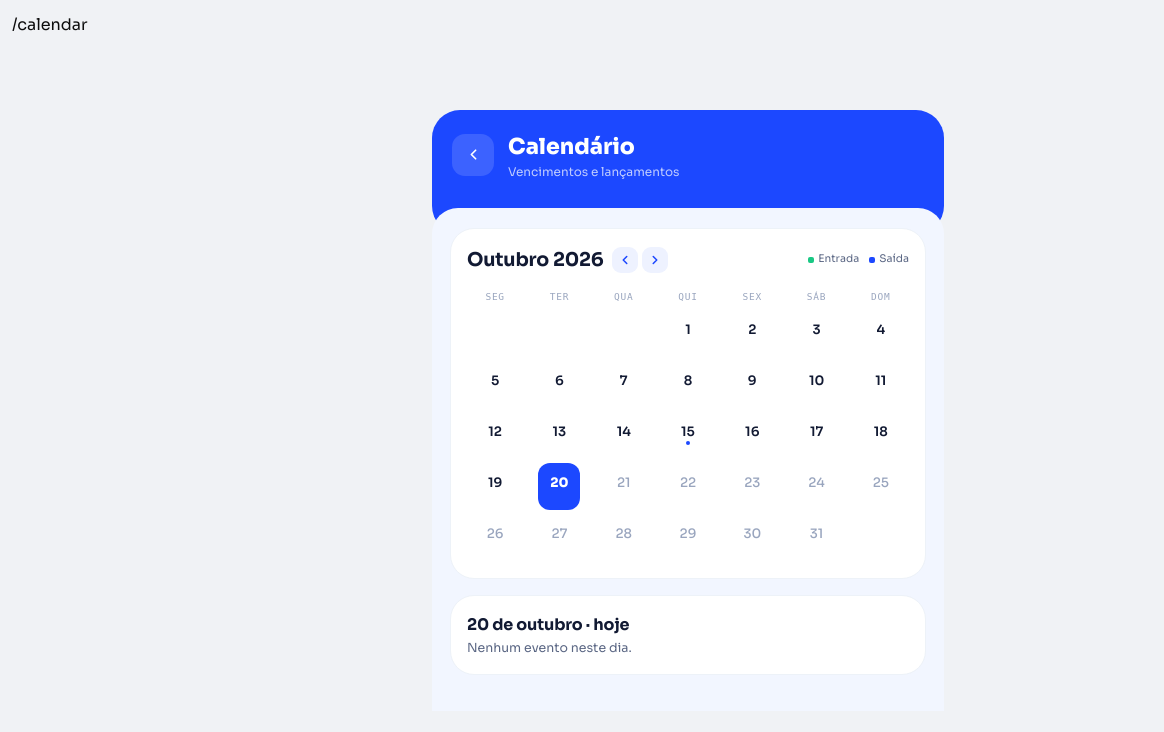
Test case: Calendário — mês e dias › conta fixa já paga não aparece também como vencimento › mês atual: o servidor diz que está paga (paidThisMonth) — só a saída aparece
Step 1. Click the button named "15 de outubro" → (688, 436), box [667,412,709,459]
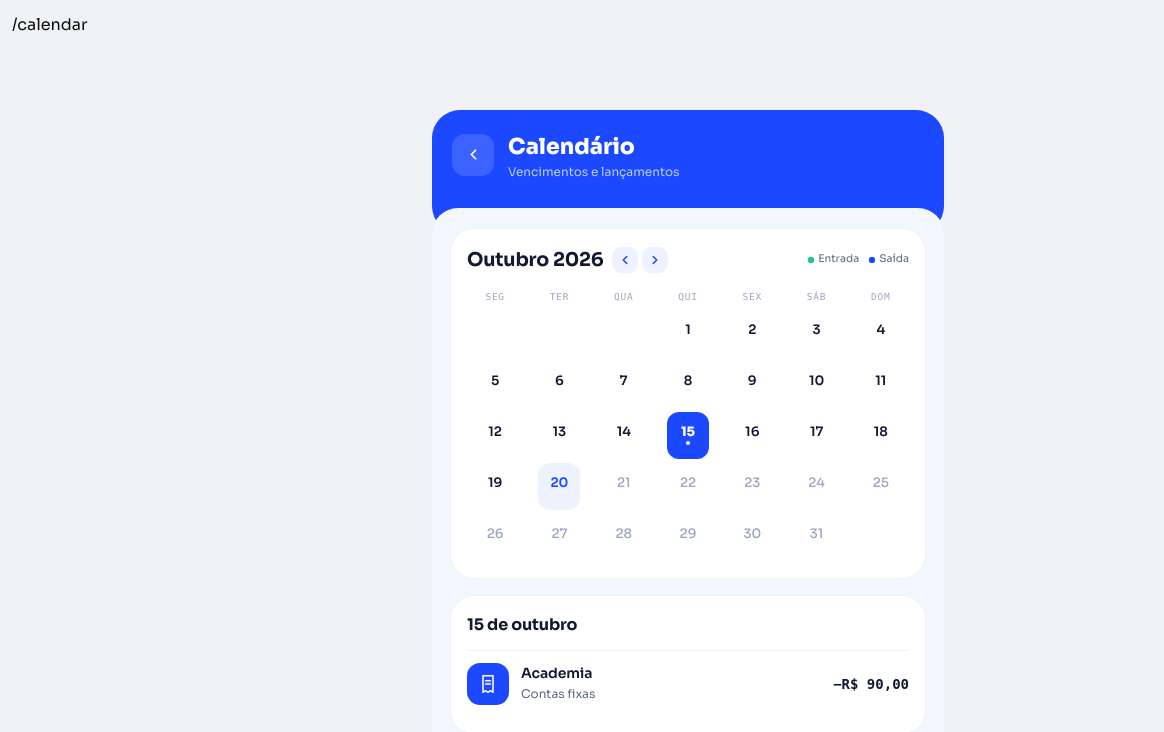
Expected: the text "Academia" is shown once, [521,664,592,682]
Expected: the text "−R$ 90,00" is shown, [833,672,909,695]
